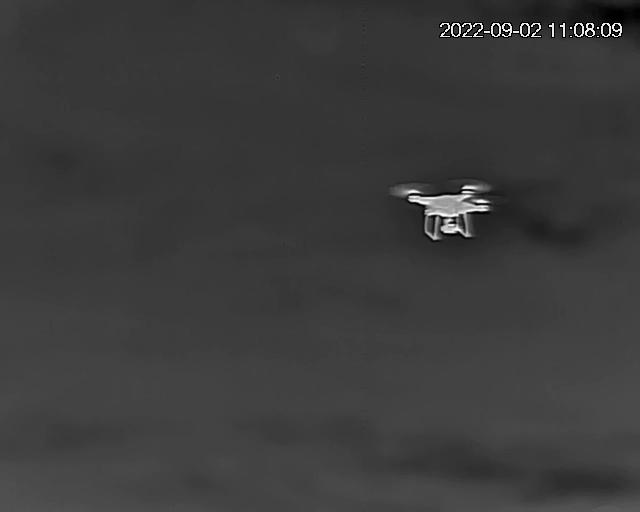DJI-Phantom: (400, 178, 491, 245)
